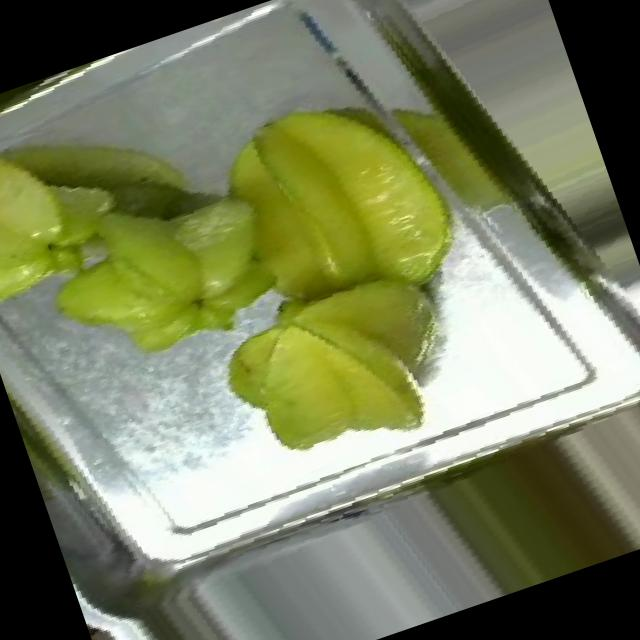fruit: (166, 37, 504, 375), (190, 245, 493, 500), (0, 68, 167, 329), (507, 344, 640, 573)
